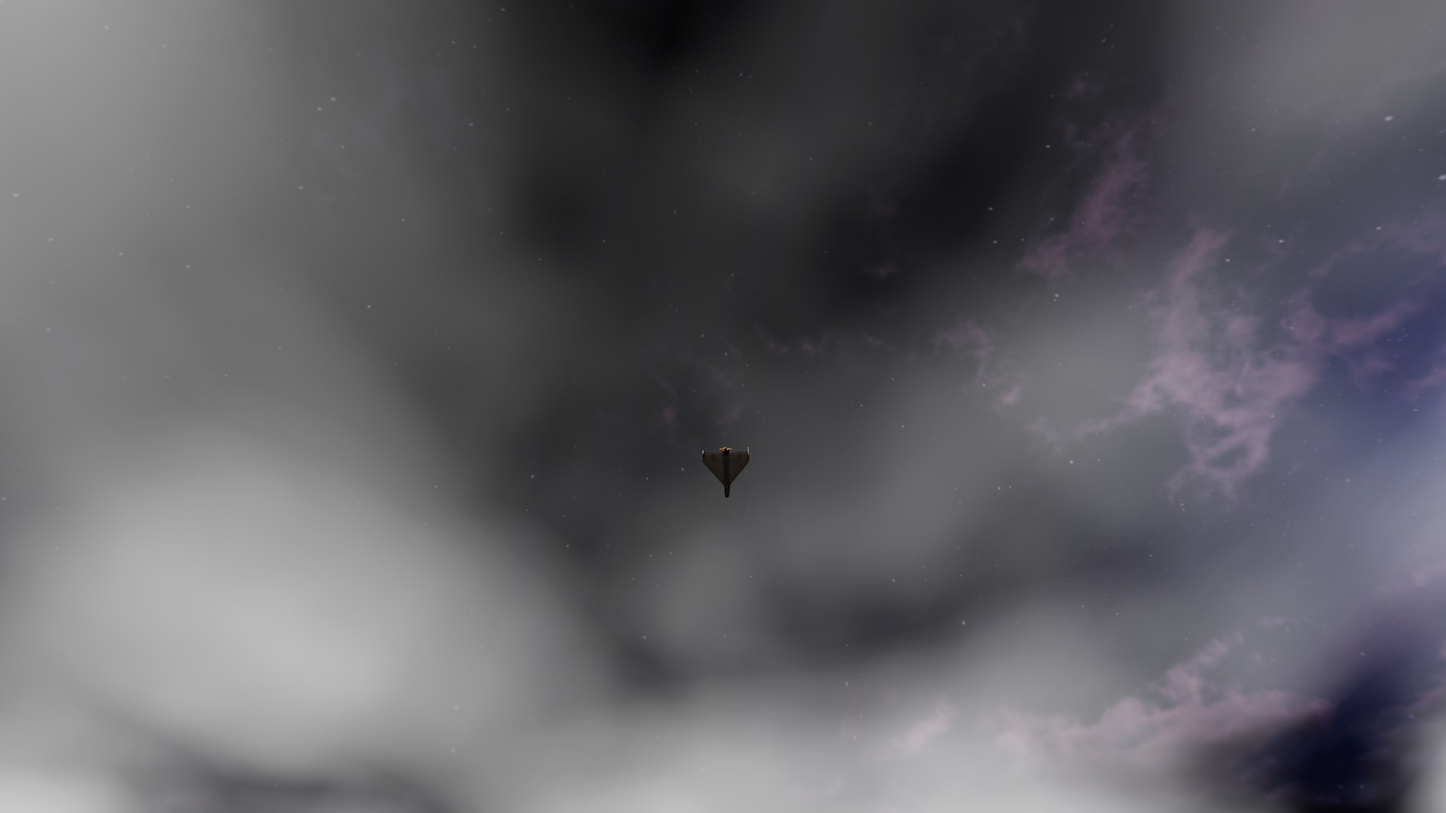shahed: (702, 448, 750, 498)
